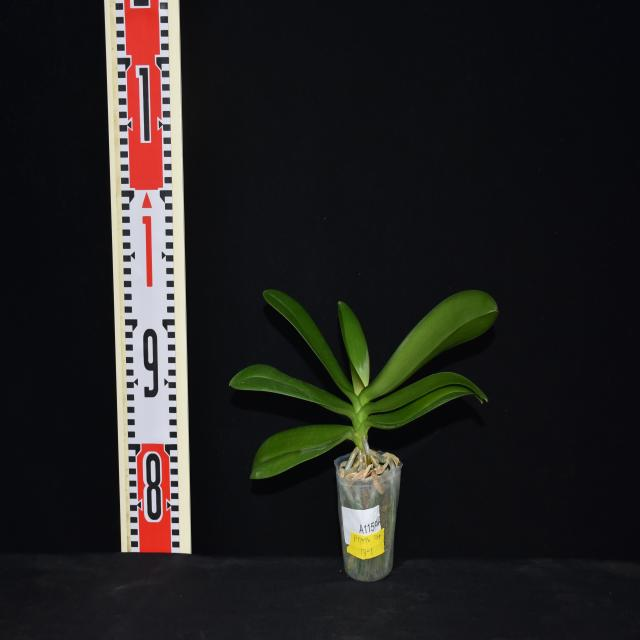leaf: (364, 290, 498, 402), (263, 290, 352, 399), (229, 364, 353, 424), (249, 425, 354, 479), (367, 373, 489, 417), (370, 386, 483, 429), (338, 300, 370, 399)
